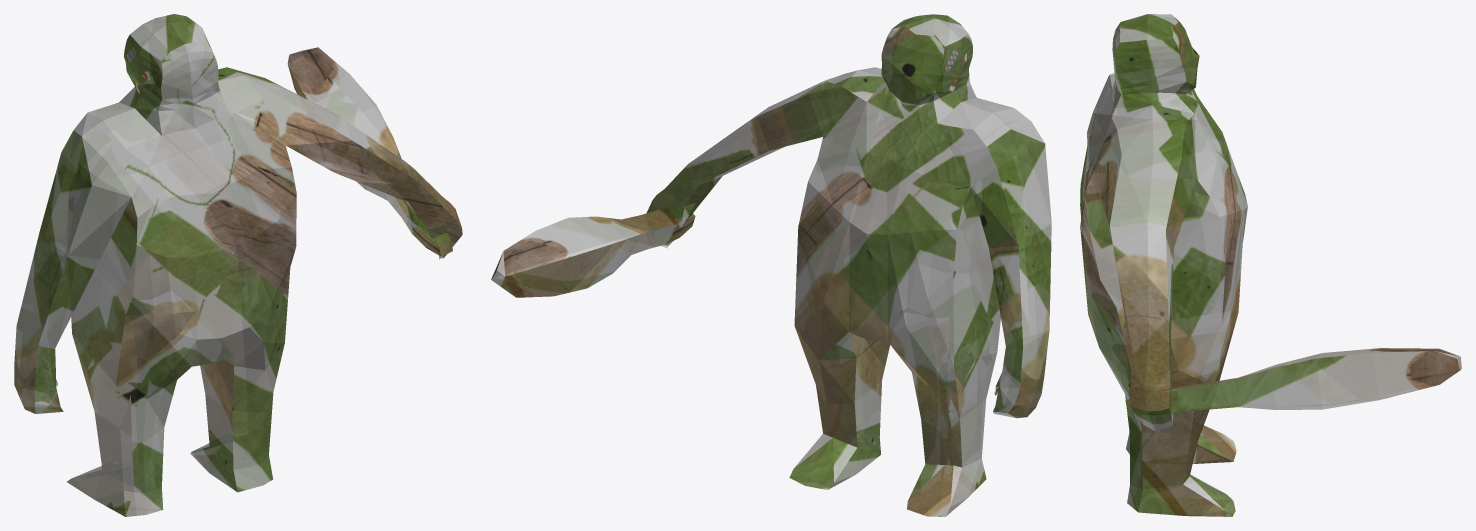
The model's file is Enemigo223.obj.
3 views of the same model, side by side, from view 1: azimuth 30°, elevation 25°; view 2: azimuth 150°, elevation 25°; view 3: azimuth 270°, elevation 25° (orthographic). The views are drawn at different scales.
Parts seen in each view (by area): view 1: Cube; view 2: Cube; view 3: Cube.
Part boxes in pixels (bbox=[...]): Cube: bbox=[14, 14, 462, 516]; Cube: bbox=[491, 14, 1051, 516]; Cube: bbox=[1080, 14, 1461, 516].
Size of the model in its own units: 2.6 by 2.7 by 2.04.
1 material, 1 textured.
